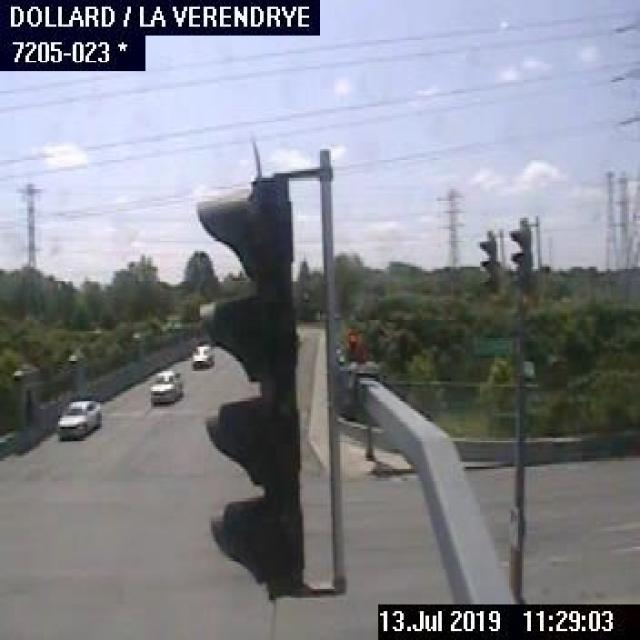vehicle: (51, 393, 107, 440), (144, 366, 180, 404), (186, 340, 217, 369)
